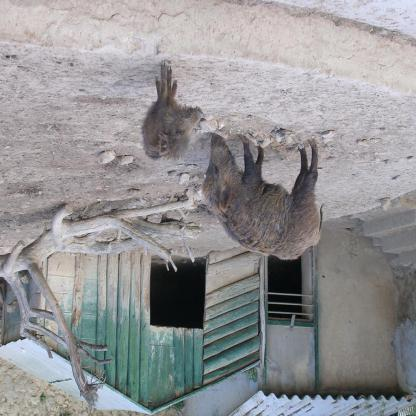boar: (199, 124, 325, 263), (140, 59, 203, 161)
